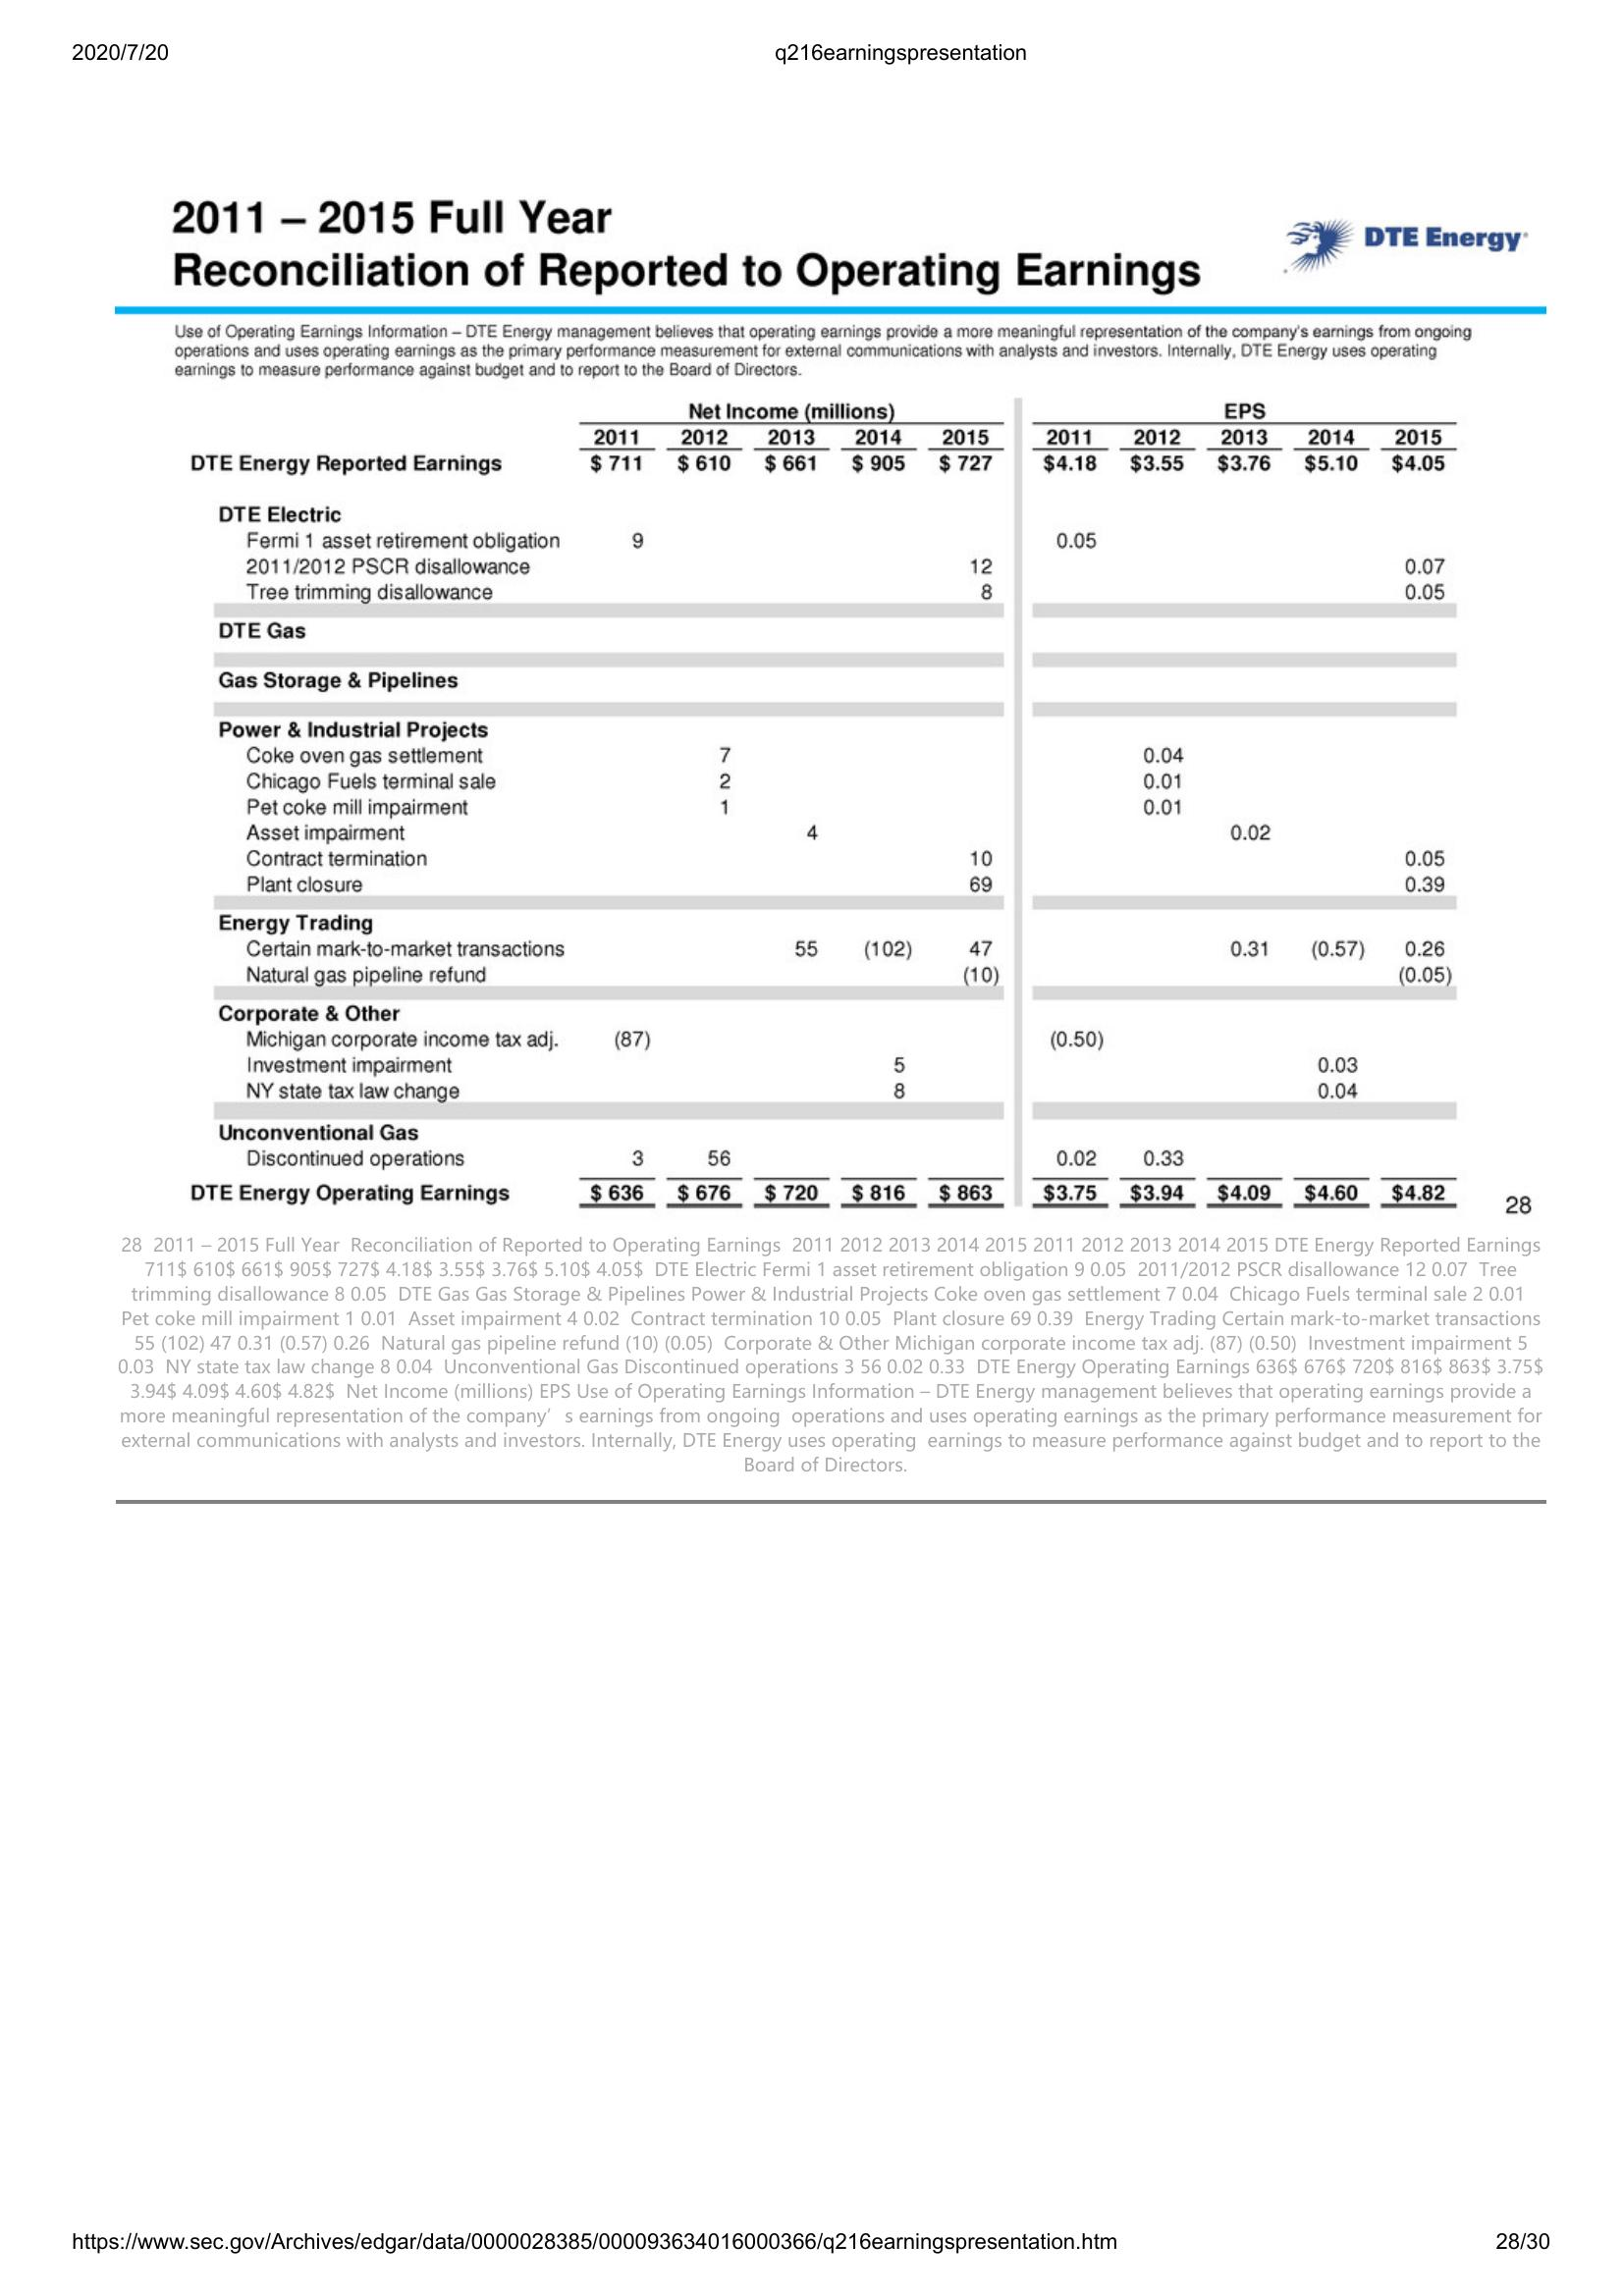table: (179, 397, 1458, 1215)
